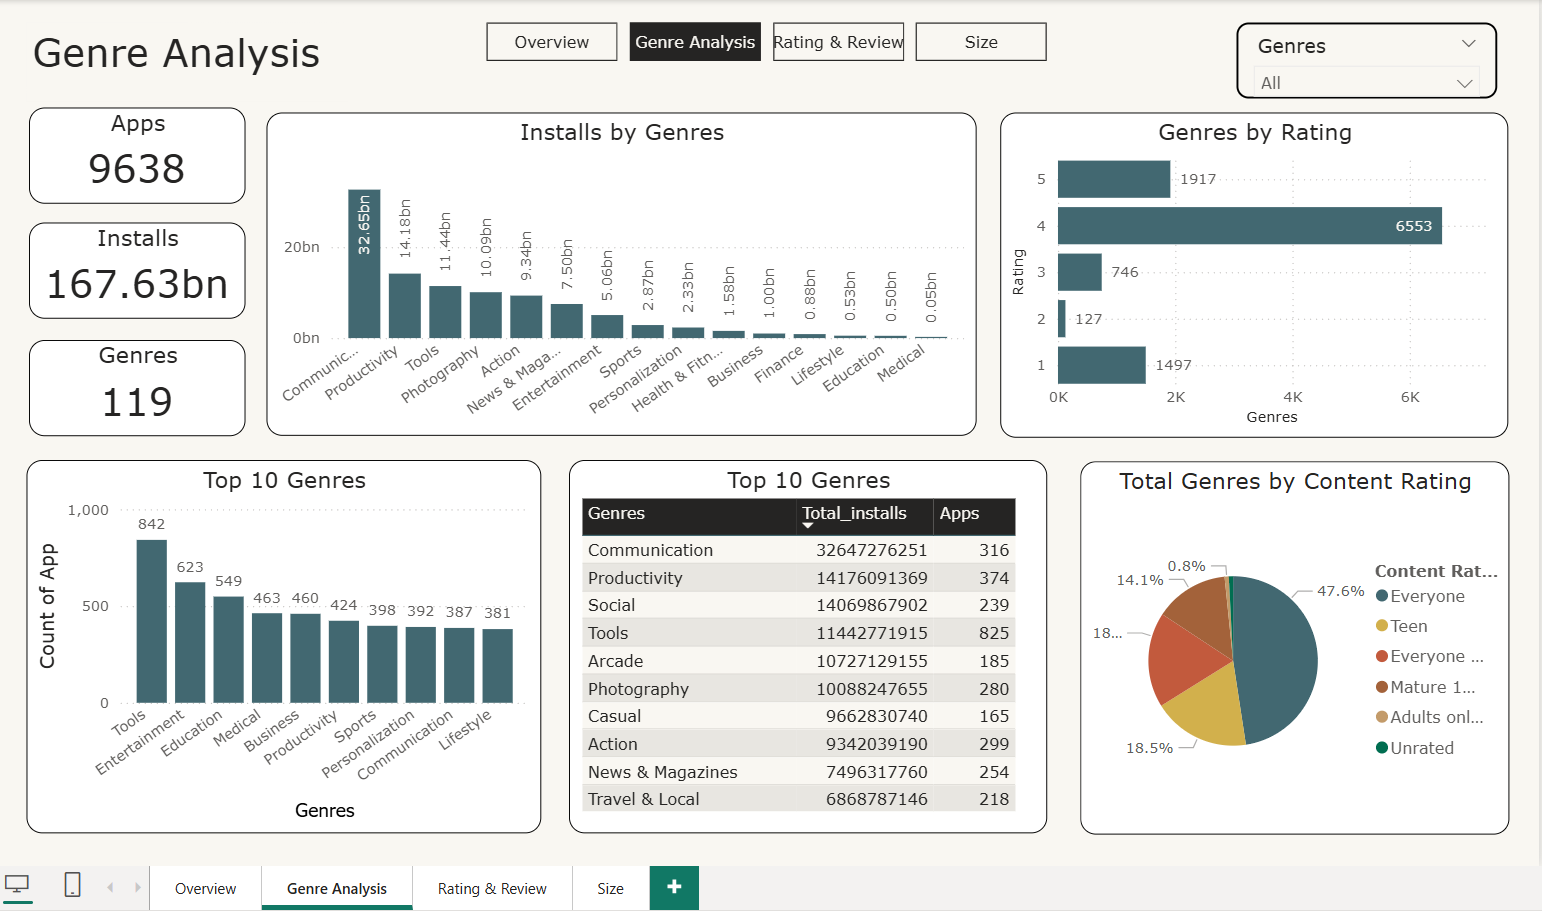

This screenshot's page, from the dashboard's own definition file:
{"tool":"powerbi","page":{"name":"Genre Analysis","canvas":[1280,720],"ordinal":1},"visuals":[{"type":"card","title":"Apps","fields":{"Values":["Measure Analysis.Apps"]},"box":[25,89.2,180,80],"z":0},{"type":"columnChart","fields":{"Category":["Google_playStore.Genres"],"Y":["Measure Analysis.Total_installs"]},"box":[222.3,93.3,590.1,269],"z":1000},{"type":"pieChart","fields":{"Category":["Google_playStore.Content Rating"],"Y":["Measure Analysis.Total Genres"]},"box":[898.8,383.7,357,310.5],"z":2000},{"type":"barChart","fields":{"Category":["Google_playStore.New_Rating"],"Y":["CountNonNull(Google_playStore.Genres)"]},"box":[832.9,93.3,422.6,270.3],"z":3000},{"type":"tableEx","title":"Top 10 Genres","fields":{"Values":["Google_playStore.Genres","Measure Analysis.Total_installs","Google_playStore.App"]},"box":[474.4,382.6,397.7,310.5],"z":4000},{"type":"columnChart","title":"Top 10 Genres","fields":{"Y":["CountNonNull(Google_playStore.App)"],"Category":["Google_playStore.Genres"]},"box":[23.3,382.6,427.9,310.5],"z":5000},{"type":"textbox","box":[23.3,19.2,267.6,65.9],"z":7000},{"type":"card","title":"Genres","fields":{"Values":["Measure Analysis.Total Genres"]},"box":[25,282.7,180,80],"z":8000},{"type":"card","title":"Installs","fields":{"Values":["Measure Analysis.Total_installs"]},"box":[25,185.2,180,80],"z":9000},{"type":"slicer","fields":{"Values":["Google_playStore.Genres"]},"box":[1029.2,19.2,216.8,63.1],"z":10000},{"type":"pageNavigator","box":[404.8,19.2,469.3,32.9],"z":11000}]}

Visuals, with their boxes on the page's 1280x720 design canvas (x1, y1, x2, y2). These are canvas units, not pixel positions in the 1542x911 screenshot, which may show the page scaled, cropped or inside an application window:
"Apps" card: (x1=25, y1=89, x2=205, y2=169)
columnChart - Google_playStore.Genres x Measure Analysis.Total_installs: (x1=222, y1=93, x2=812, y2=362)
pieChart - Google_playStore.Content Rating x Measure Analysis.Total Genres: (x1=899, y1=384, x2=1256, y2=694)
barChart - Google_playStore.New_Rating x CountNonNull(Google_playStore.Genres): (x1=833, y1=93, x2=1256, y2=364)
"Top 10 Genres" tableEx: (x1=474, y1=383, x2=872, y2=693)
"Top 10 Genres" columnChart: (x1=23, y1=383, x2=451, y2=693)
textbox: (x1=23, y1=19, x2=291, y2=85)
"Genres" card: (x1=25, y1=283, x2=205, y2=363)
"Installs" card: (x1=25, y1=185, x2=205, y2=265)
slicer - Google_playStore.Genres: (x1=1029, y1=19, x2=1246, y2=82)
pageNavigator: (x1=405, y1=19, x2=874, y2=52)
